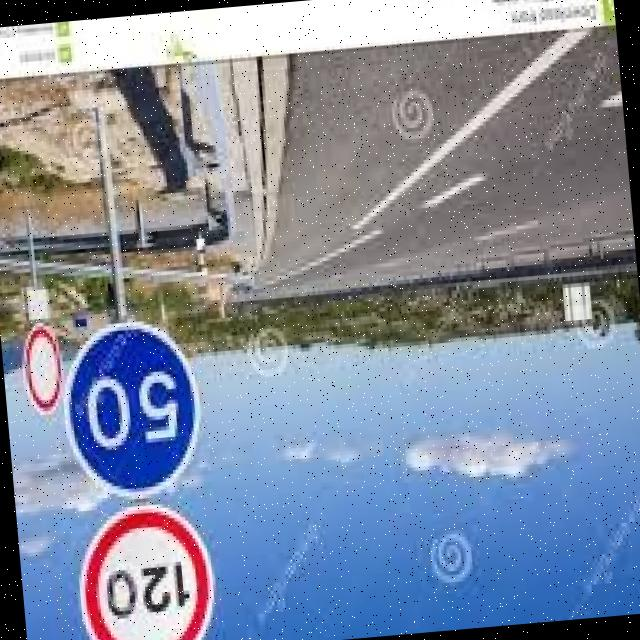speed_limit_120: (67, 499, 226, 640)
